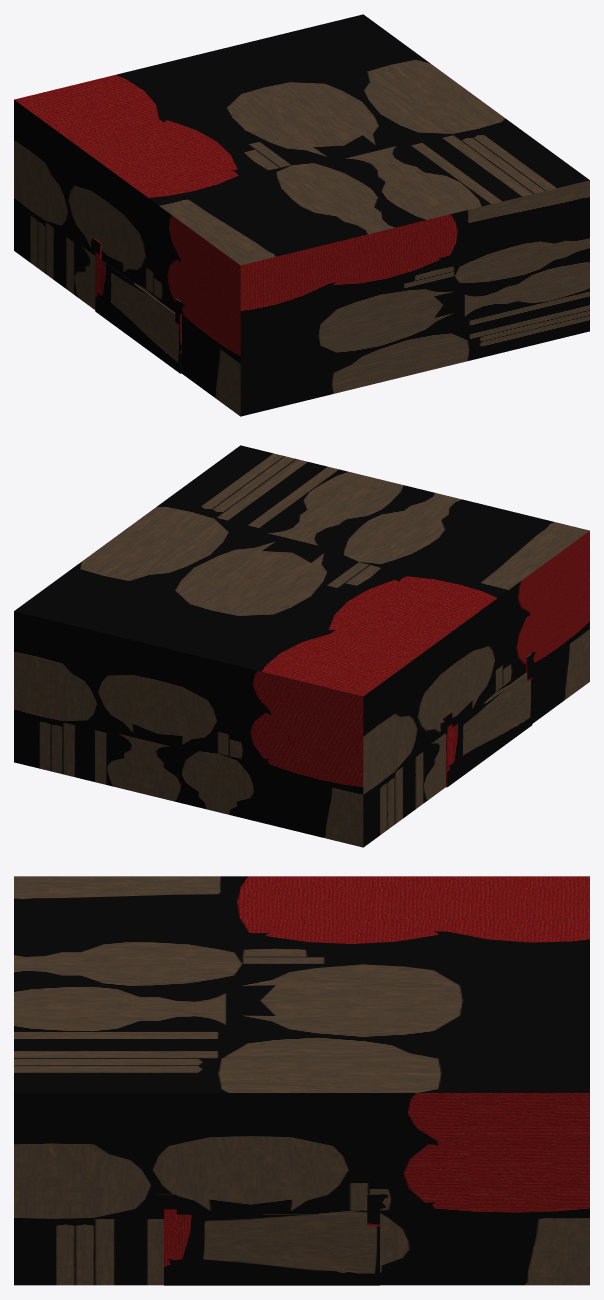
The model's file is Court.obj.
The picture shows the model from 3 angles, top to bottom: view 1: azimuth 30°, elevation 25°; view 2: azimuth 150°, elevation 25°; view 3: azimuth 270°, elevation 25°; orthographic projection. The views are drawn at different scales.
Parts seen in each view (by area): view 1: pCube1, polySurface1 pCube28, pCube8; view 2: pCube1, polySurface1 pCube28, pCube8; view 3: polySurface1 pCube28, pCube1, pCube7.
Boxes of the visible parts, x1=… form: pCube1: x1=14, y1=100, x2=589, y2=416; polySurface1 pCube28: x1=14, y1=14, x2=589, y2=265; pCube8: x1=92, y1=238, x2=184, y2=373; pCube1: x1=14, y1=531, x2=589, y2=847; polySurface1 pCube28: x1=14, y1=445, x2=589, y2=696; pCube8: x1=443, y1=652, x2=535, y2=787; polySurface1 pCube28: x1=14, y1=876, x2=589, y2=1092; pCube1: x1=14, y1=1093, x2=589, y2=1285; pCube7: x1=156, y1=1194, x2=387, y2=1285.
Size of the model in its own units: 92.38 by 38.7 by 103.
